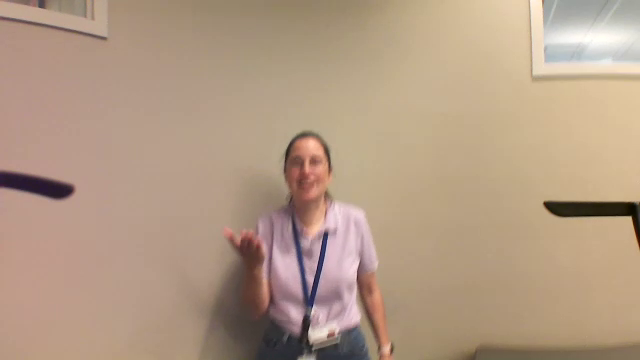land: (212, 216, 272, 267)
